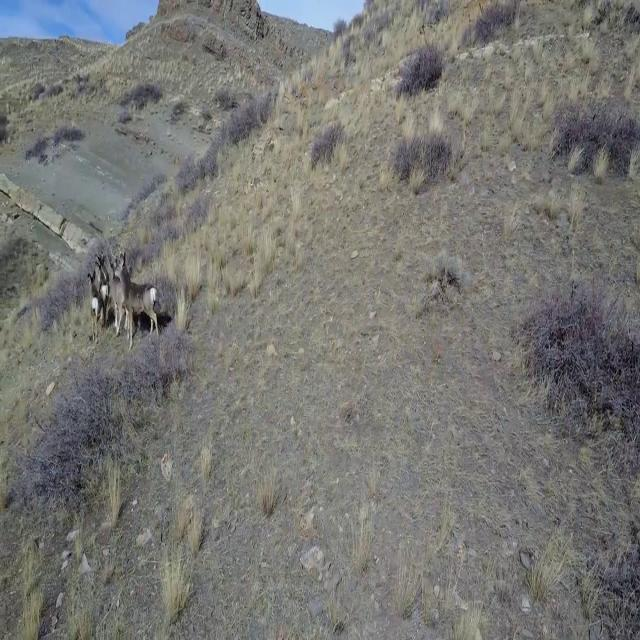Deer: (115, 252, 163, 348), (96, 249, 112, 330), (86, 267, 102, 342)
